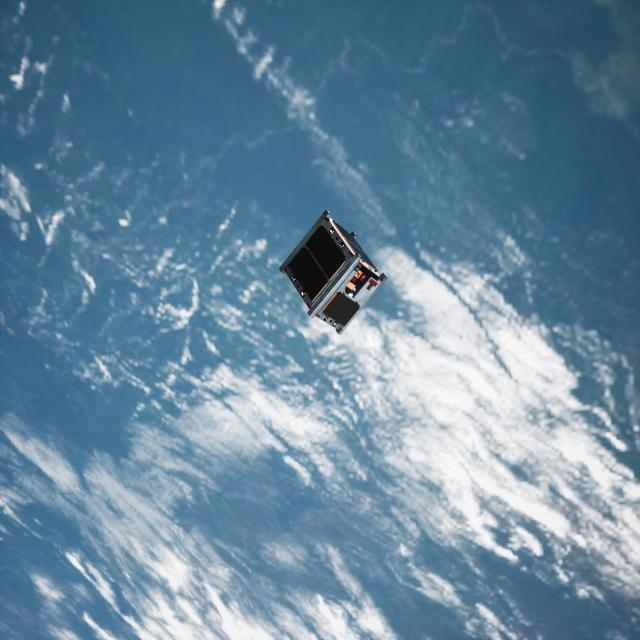satellite: (265, 206, 390, 336)
